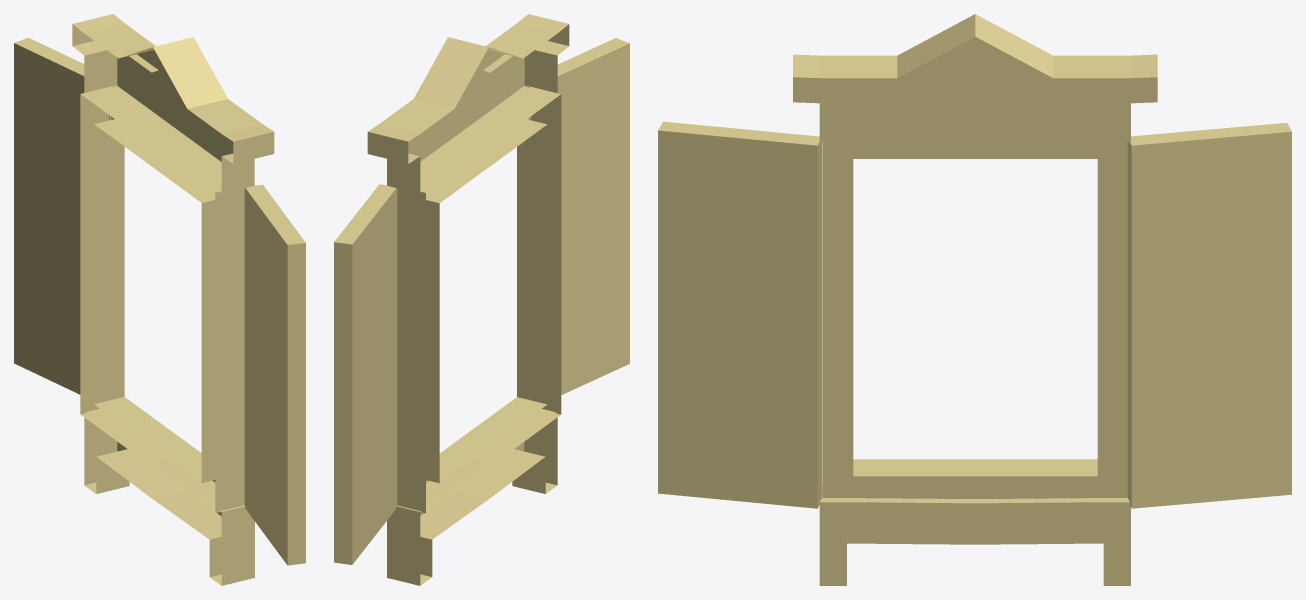
Rendered from windowTexturing.fbx.
The picture shows the model from 3 angles, left to right: view 1: azimuth 30°, elevation 25°; view 2: azimuth 150°, elevation 25°; view 3: azimuth 270°, elevation 25°; orthographic projection. The views are drawn at different scales.
Visible parts, largest first — view 1: GnalichnikiG, GstavnyRight, GstavnyLeft; view 2: GnalichnikiG, GstavnyLeft, GstavnyRight; view 3: GnalichnikiG, GstavnyLeft, GstavnyRight.
Boxes of the visible parts, x1=… form: GnalichnikiG: x1=72, y1=14, x2=274, y2=585; GstavnyRight: x1=14, y1=37, x2=117, y2=394; GstavnyLeft: x1=244, y1=184, x2=305, y2=565; GnalichnikiG: x1=367, y1=14, x2=569, y2=585; GstavnyLeft: x1=524, y1=38, x2=629, y2=394; GstavnyRight: x1=334, y1=184, x2=397, y2=564; GnalichnikiG: x1=793, y1=14, x2=1157, y2=585; GstavnyLeft: x1=658, y1=121, x2=822, y2=508; GstavnyRight: x1=1127, y1=122, x2=1291, y2=508.
Size of the model in its own units: 14.18 by 144 by 150.
